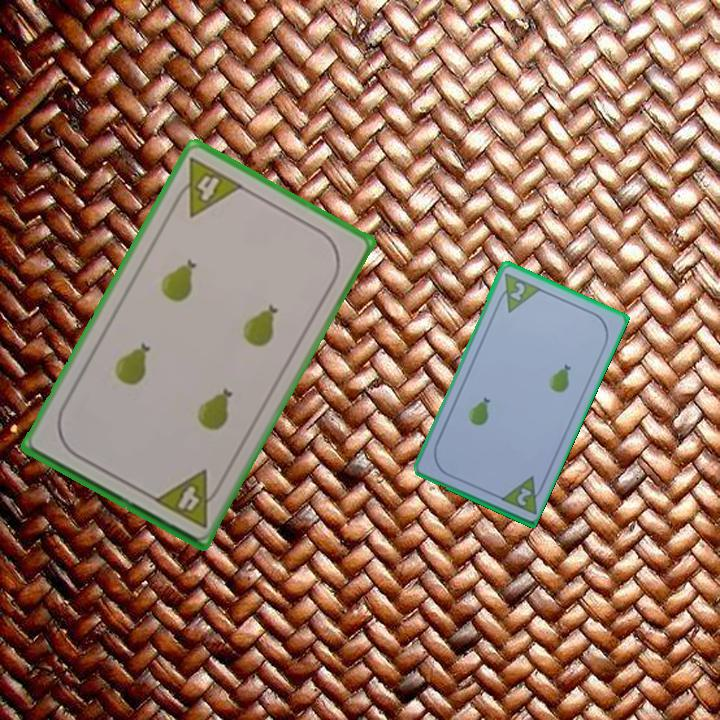2p: (506, 278, 528, 303), (513, 484, 534, 508)
4p: (168, 153, 246, 220), (150, 466, 226, 531)
